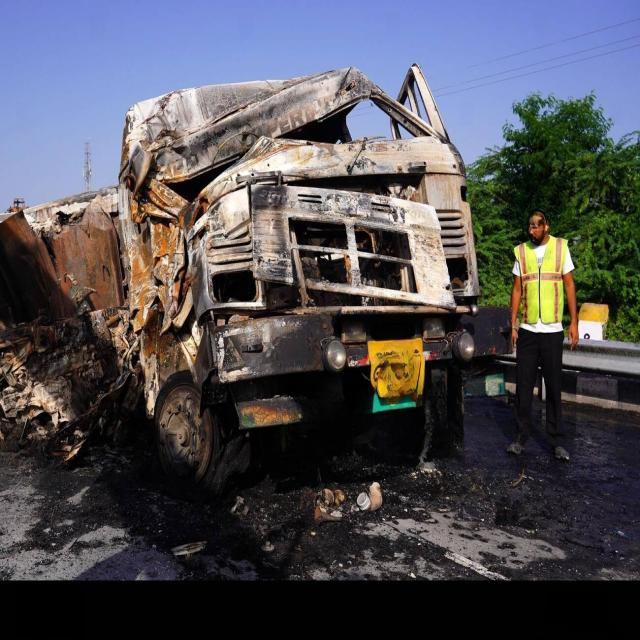accident: (0, 65, 510, 498)
